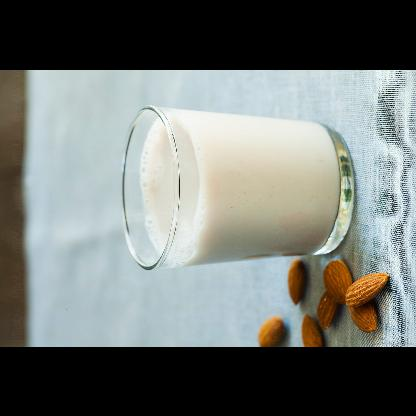milk: (138, 106, 341, 270)
